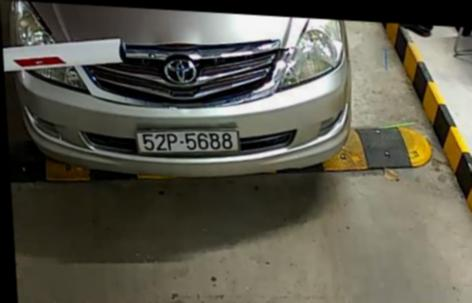License_Plate: (134, 124, 239, 157)
